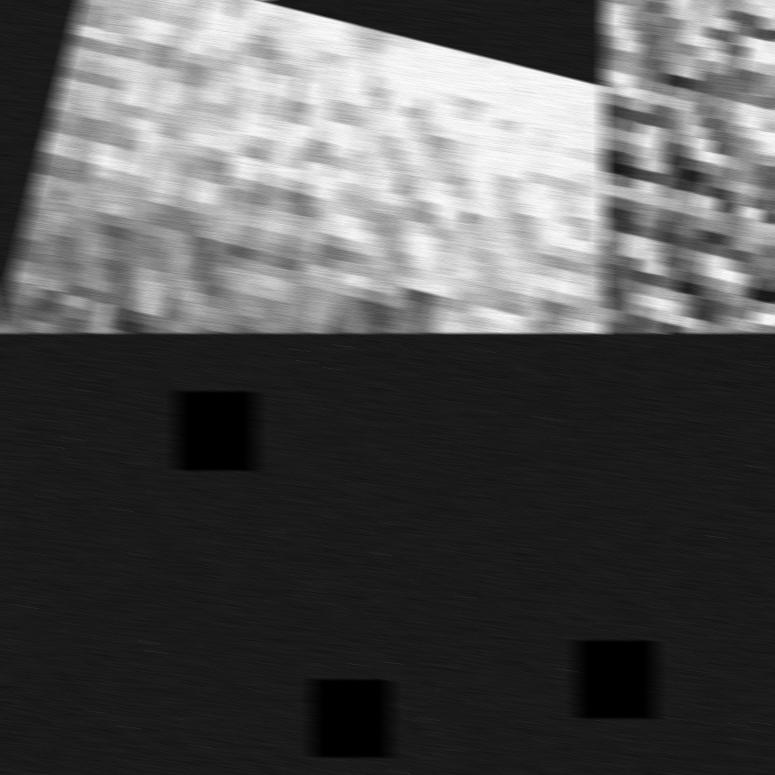Airbag: (0, 0, 606, 333), (601, 0, 775, 333)
